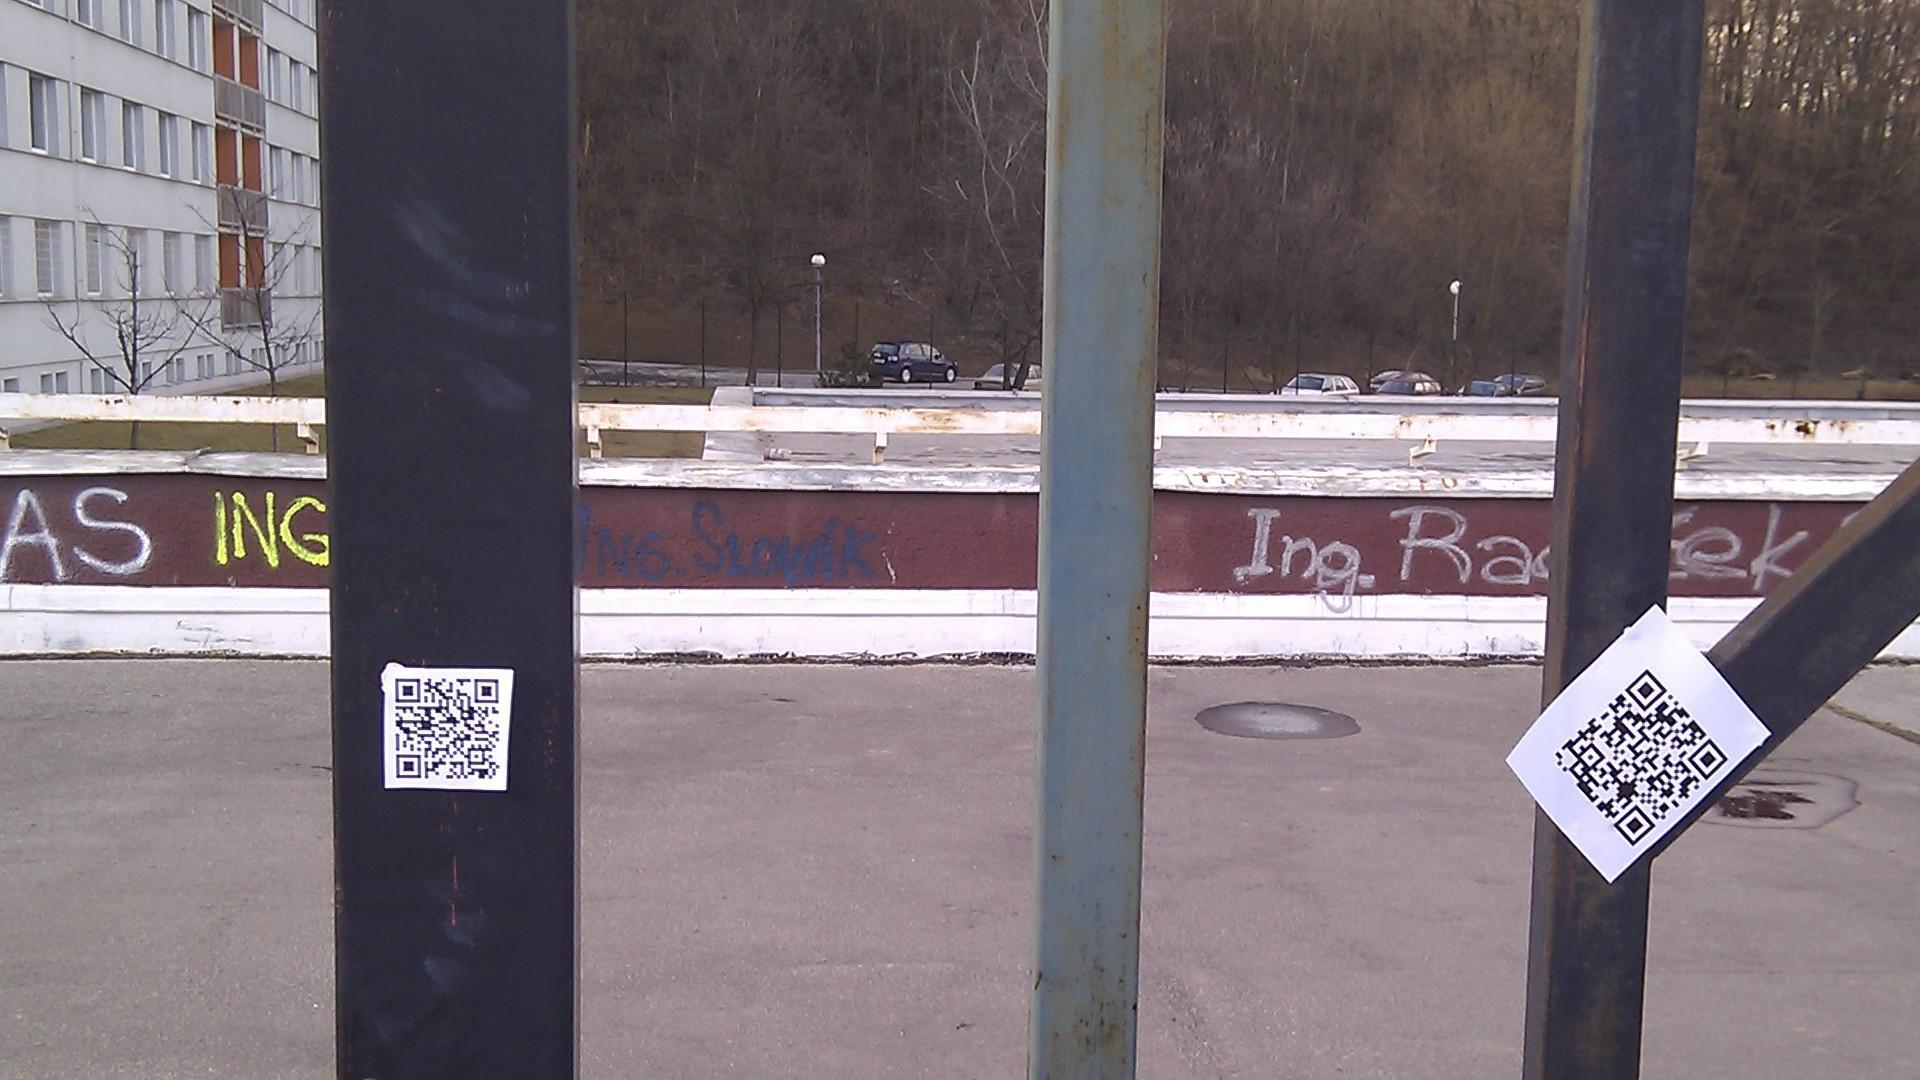Finder pattern: (1615, 804, 1658, 848), (1627, 669, 1668, 713), (1687, 740, 1727, 778), (392, 673, 423, 704), (473, 675, 502, 705), (396, 752, 425, 781)
